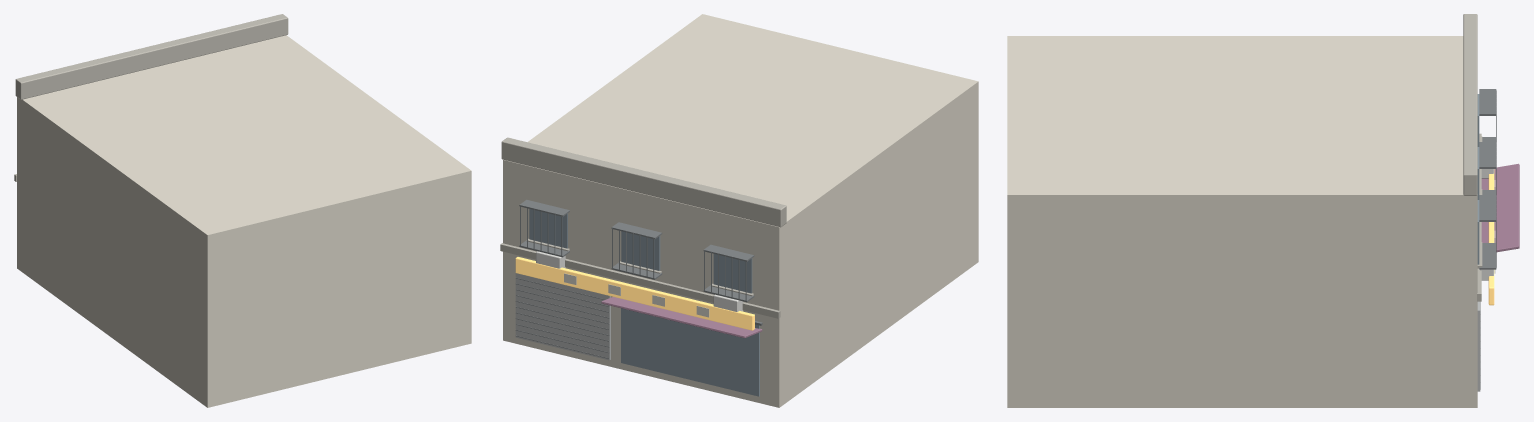
Rendered from block_b.glb.
The picture shows the model from 3 angles, left to right: view 1: azimuth 30°, elevation 25°; view 2: azimuth 150°, elevation 25°; view 3: azimuth 270°, elevation 25°; orthographic projection. The views are drawn at different scales.
Visible parts, largest first — view 1: block_b; view 2: block_b; view 3: block_b.
Part boxes in pixels (<box>): block_b: <box>14,14,471,407</box>; block_b: <box>500,14,978,407</box>; block_b: <box>1007,14,1519,407</box>.
Size of the model in its own units: 8.1 by 5.5 by 10.9.
